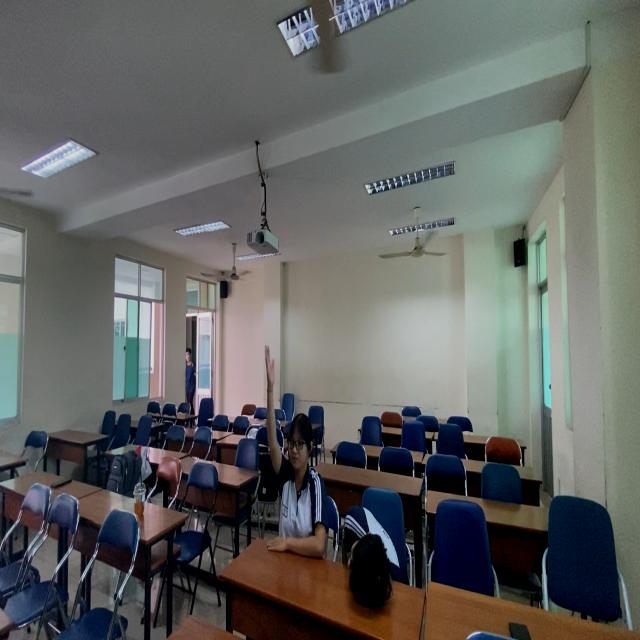raise_hand: (260, 340, 330, 561)
sleep: (338, 496, 411, 611)
